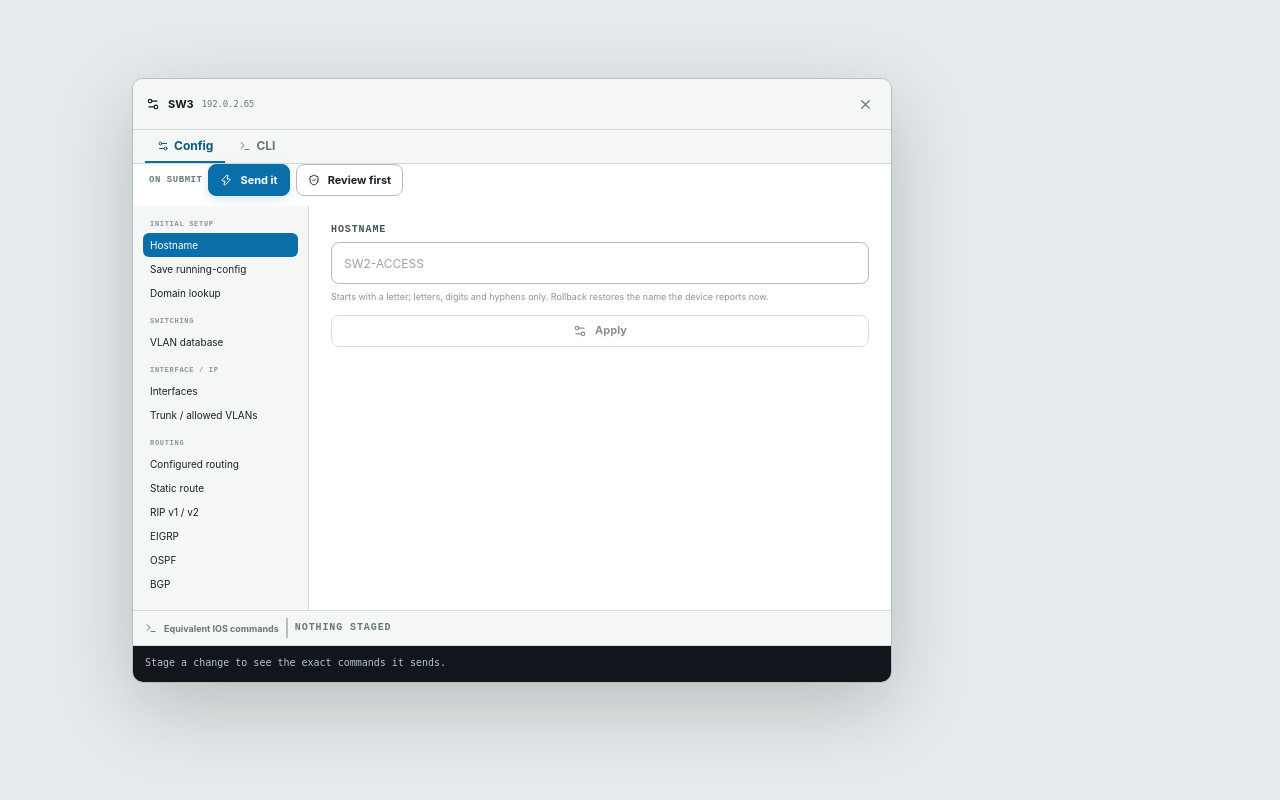
Packet Tracer-style device config window › previews a change and shows the exact commands it would send
Click the button "Review first" at (349, 180), box x1=296 y1=164 x2=403 y2=196
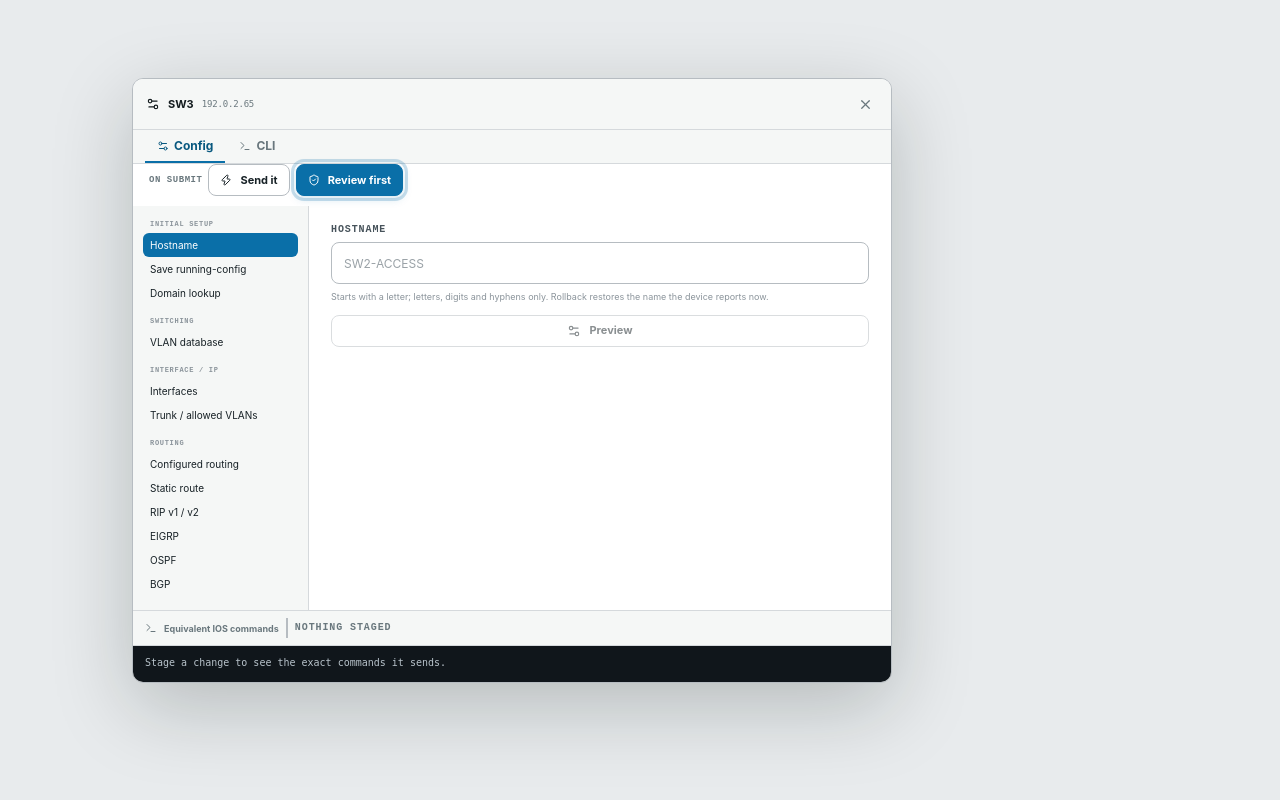
Click the button "Interfaces" at (220, 391), box x1=143 y1=379 x2=298 y2=403
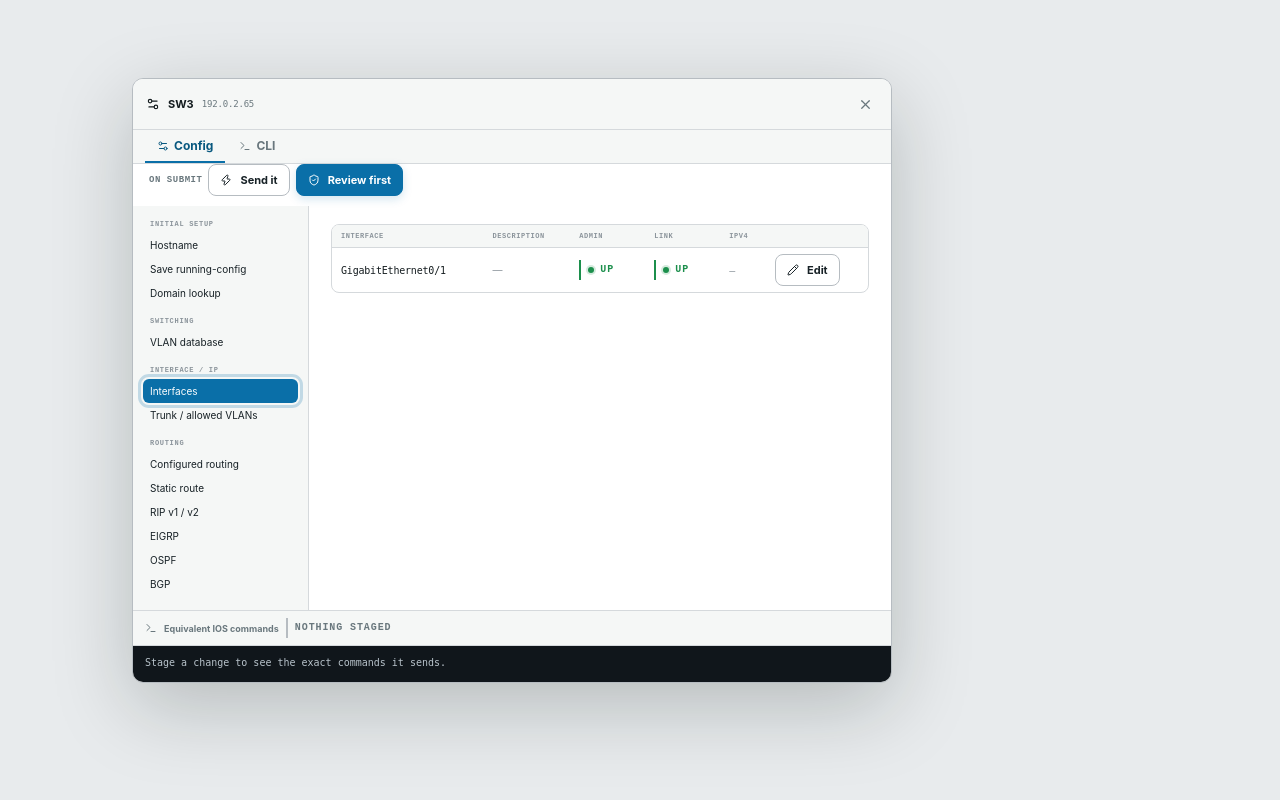
Click the button "Edit" at (807, 270), box x1=775 y1=254 x2=840 y2=286
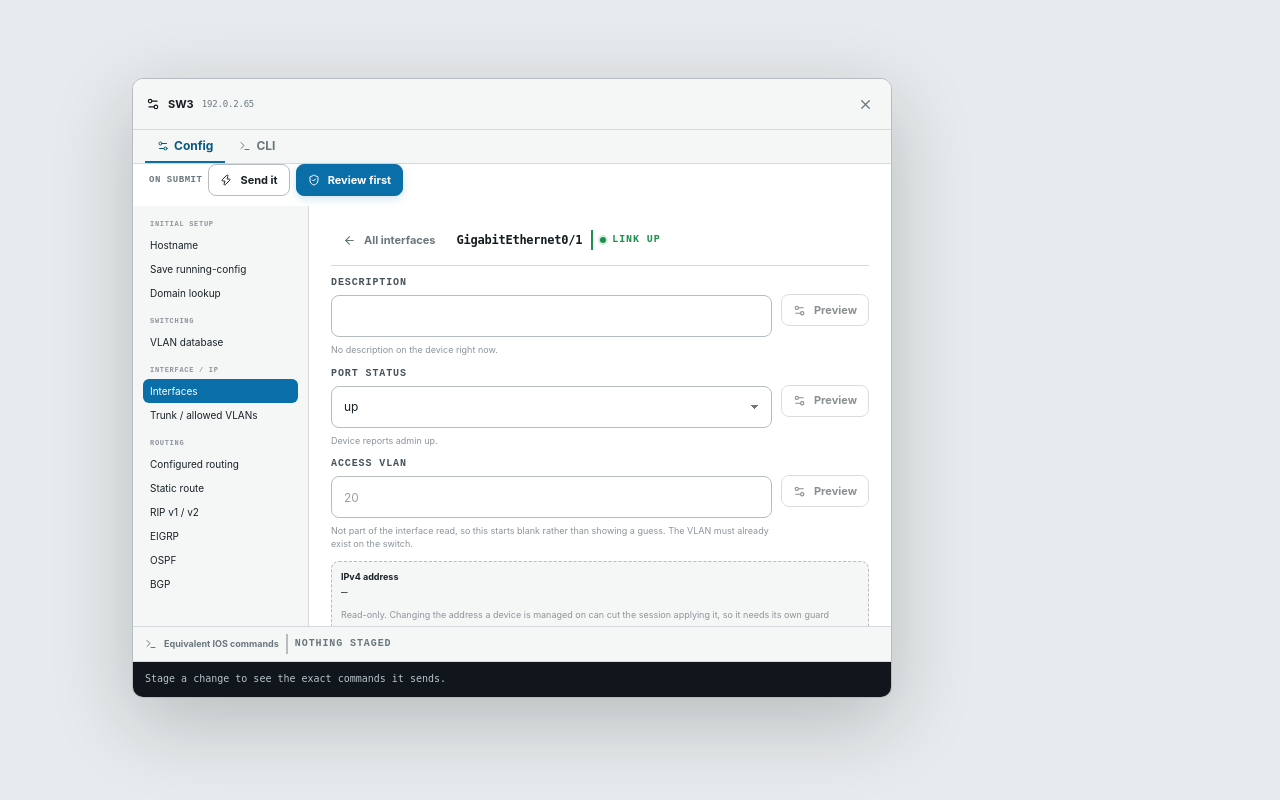
Type "uplink-to-lab-core" into the field labelled "Description" at (552, 316), box x1=331 y1=295 x2=772 y2=337
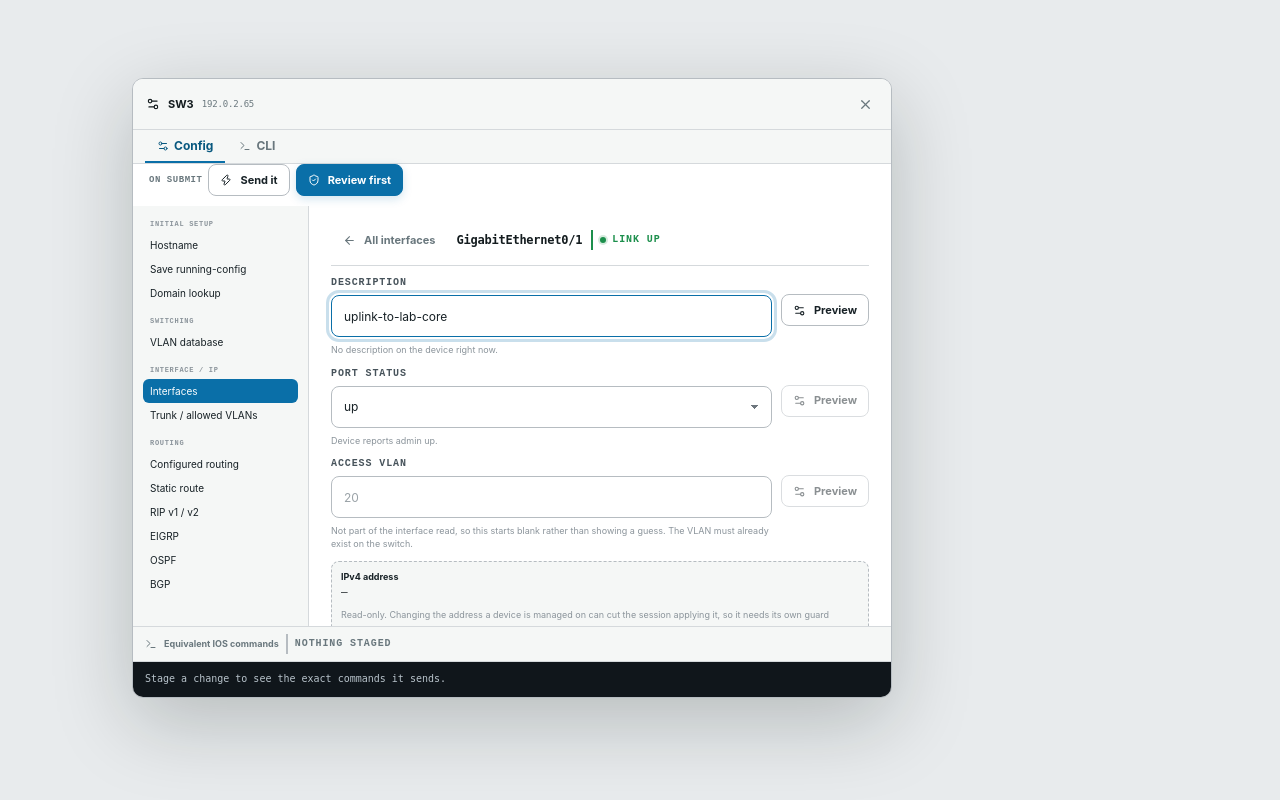
Click the 1st button "Preview" at (825, 310), box x1=781 y1=294 x2=869 y2=326
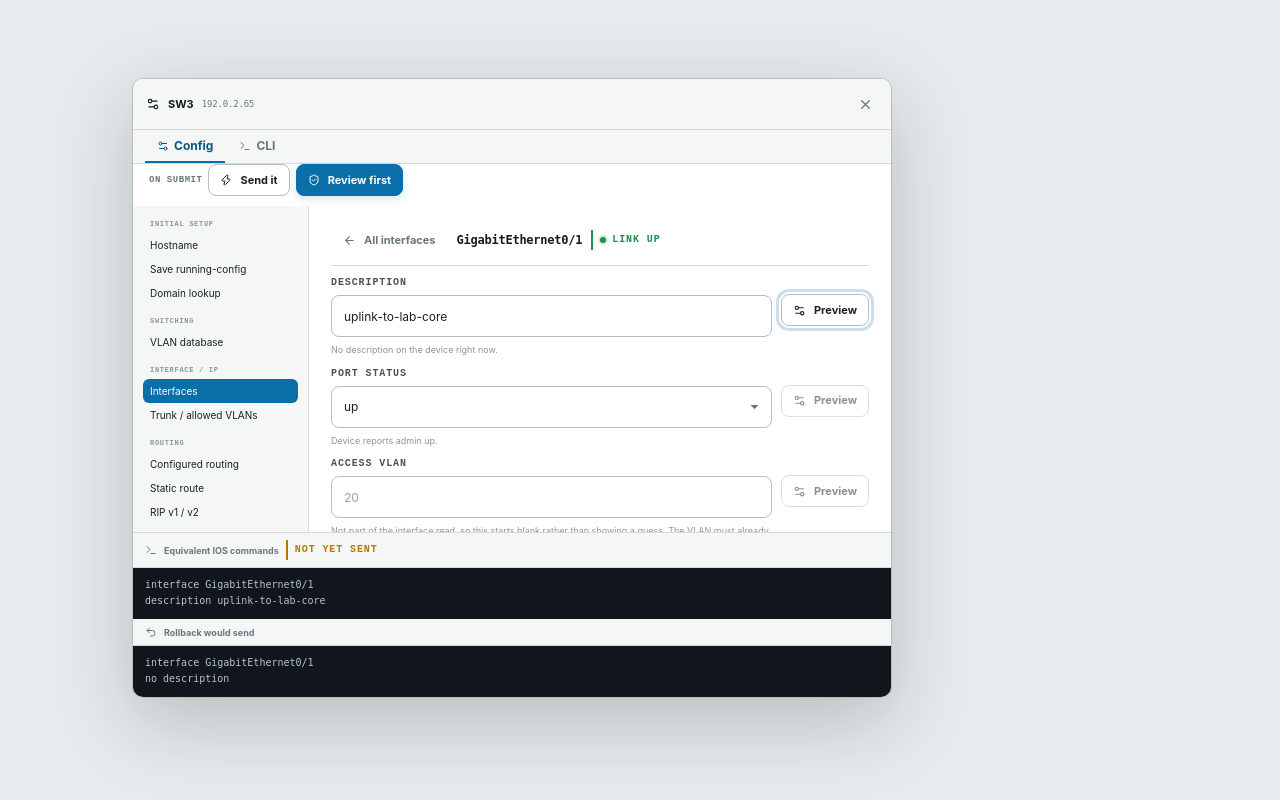
Now the text named "Equivalent IOS commands" shows "description uplink-to-lab-core", box x1=145 y1=579 x2=326 y2=606
Now the text "NOT YET SENT" is shown, box x1=286 y1=540 x2=386 y2=560
Now the text named "Rollback commands" shows "no description", box x1=145 y1=657 x2=314 y2=684
